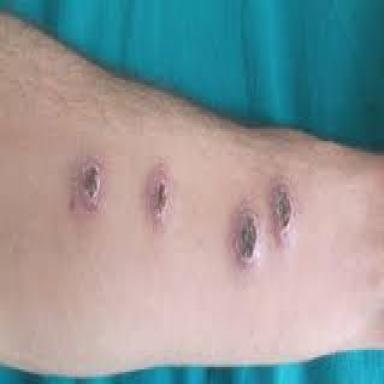Leishmanios: (231, 198, 259, 270), (269, 179, 297, 246), (149, 159, 173, 226), (78, 156, 105, 212)
